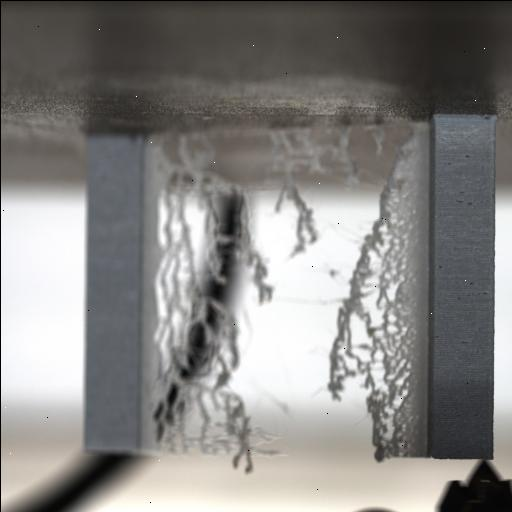stringing: (150, 172, 278, 472), (323, 125, 421, 460)
